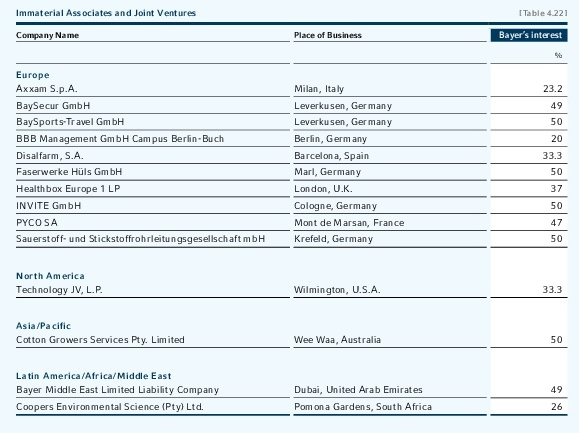table: (0, 0, 579, 433)
